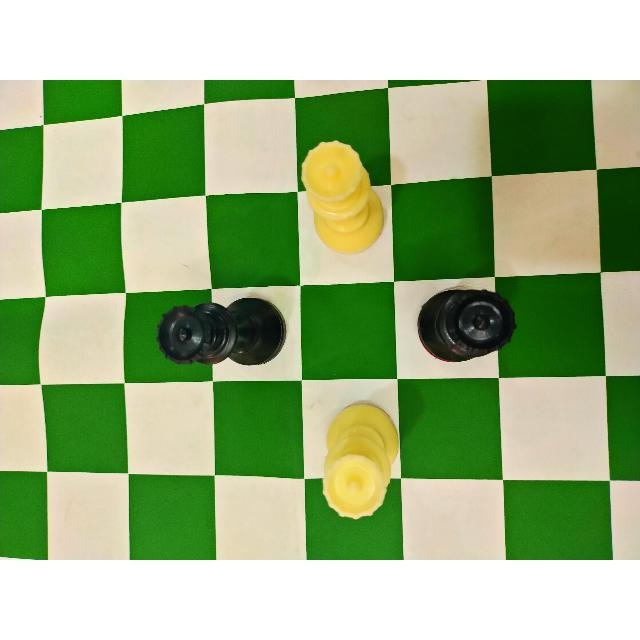black-queen: (155, 297, 287, 369), (416, 285, 520, 365)
white-queen: (298, 138, 385, 258), (320, 401, 402, 525)
